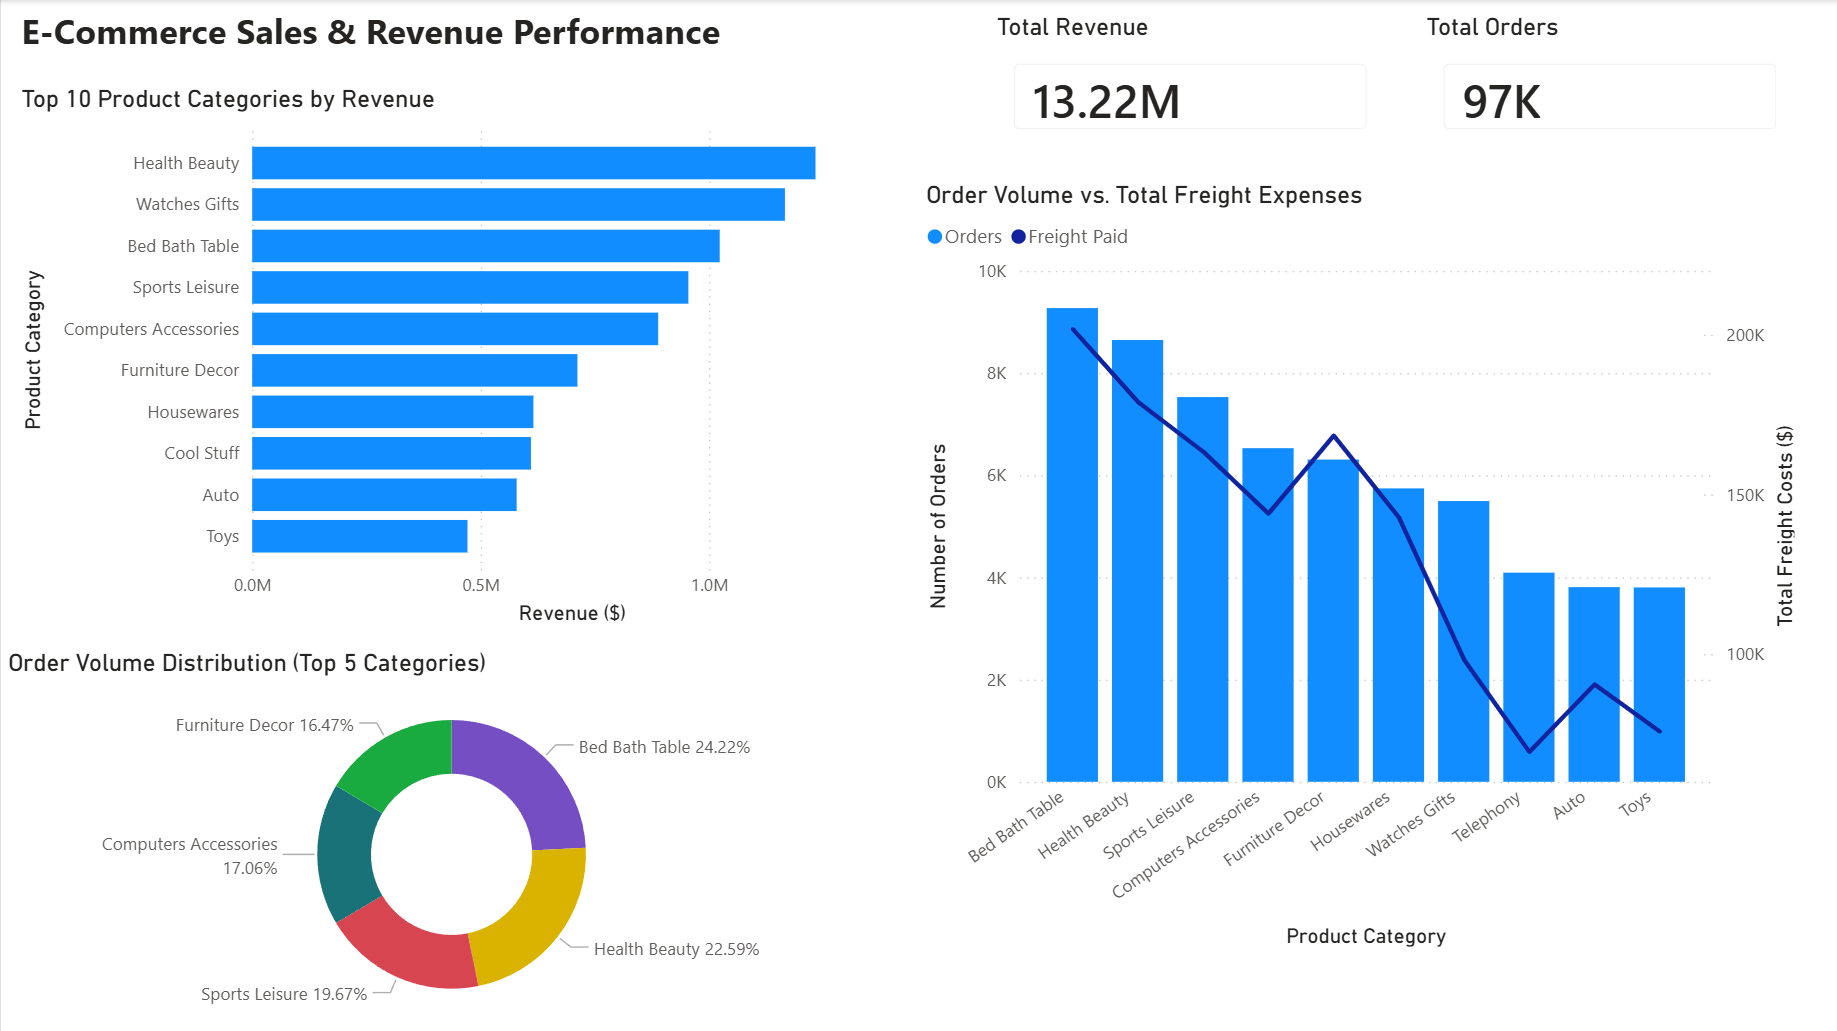

Layout of this report page (visuals, bound fields, positions):
{"tool":"powerbi","page":{"name":"Sales Performance","canvas":[1280,720],"ordinal":0},"visuals":[{"type":"cardVisual","title":"Total Revenue","fields":{"Data":["Sum(Query1.total_revenue)"]},"box":[689,8.4,280.1,99.5],"z":0},{"type":"cardVisual","title":"Total Orders","fields":{"Data":["Sum(Query1.total_orders)"]},"box":[988.3,8.4,266.7,99.5],"z":1000},{"type":"clusteredBarChart","title":"Top 10 Product Categories by Revenue","fields":{"Category":["Query1.category_english"],"Y":["Sum(Query1.total_revenue)"]},"box":[9.2,58.5,630.5,381.3],"z":2000},{"type":"donutChart","title":"Order Volume Distribution (Top 5 Categories)","fields":{"Category":["Query1.category_english"],"Y":["Sum(Query1.total_orders)"]},"box":[0,451.5,627.9,268.4],"z":3000},{"type":"lineStackedColumnComboChart","title":"Order Volume vs. Total Freight Expenses","fields":{"Category":["Query1.category_english"],"Y2":["Sum(Query1.total_freight_paid)"],"Y":["Sum(Query1.total_orders)"]},"box":[639.7,125.4,615.4,539.3],"z":4000},{"type":"textbox","box":[9.2,0,502.5,43.5],"z":5000}]}

Visuals, with their boxes in screenshot pixels (x1, y1, x2, y2), scaled from the page's 1280x720 canvas onto the 1837x1031 screenshot:
"Total Revenue" cardVisual: {"left": 989, "top": 12, "right": 1391, "bottom": 155}
"Total Orders" cardVisual: {"left": 1418, "top": 12, "right": 1801, "bottom": 155}
"Top 10 Product Categories by Revenue" clusteredBarChart: {"left": 13, "top": 84, "right": 918, "bottom": 630}
"Order Volume Distribution (Top 5 Categories)" donutChart: {"left": 0, "top": 647, "right": 901, "bottom": 1030}
"Order Volume vs. Total Freight Expenses" lineStackedColumnComboChart: {"left": 918, "top": 180, "right": 1801, "bottom": 952}
textbox: {"left": 13, "top": 0, "right": 734, "bottom": 62}
